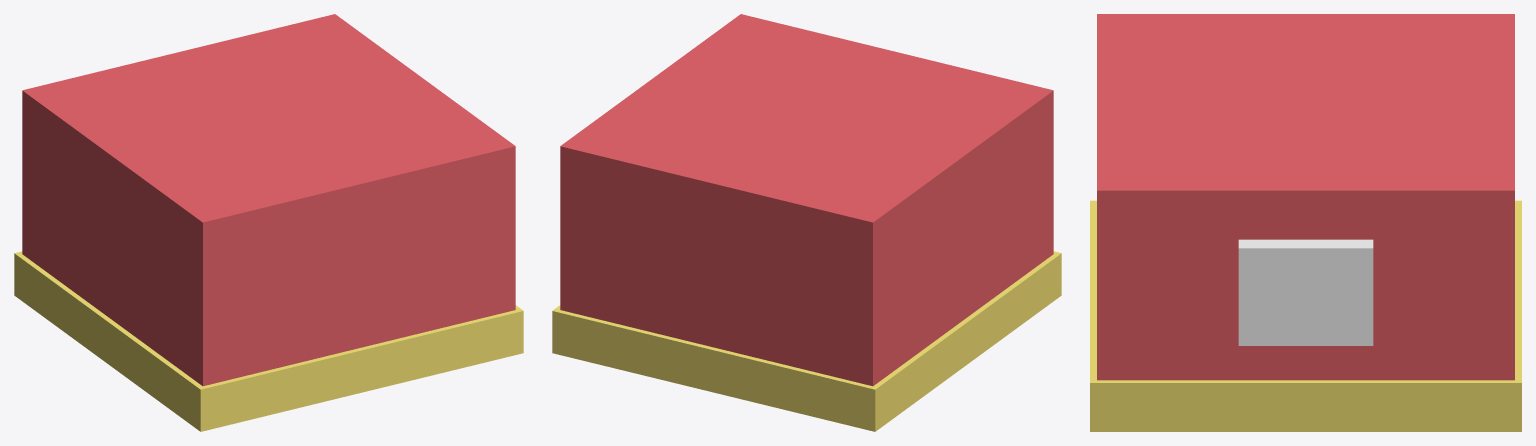
File: junina_manga_sup.glb
3 renders of one model, left to right at view 1: azimuth 30°, elevation 25°; view 2: azimuth 150°, elevation 25°; view 3: azimuth 270°, elevation 25°, orthographic. The views are drawn at different scales.
Visible parts, largest first — view 1: junina_manga_sup; view 2: junina_manga_sup; view 3: junina_manga_sup.
Part boxes in pixels (box(x1,y1,x2,y2)): junina_manga_sup: box(14, 14, 523, 431); junina_manga_sup: box(552, 14, 1061, 431); junina_manga_sup: box(1090, 14, 1521, 431).
Bounding box in the file's own units: 0.33 × 0.195 × 0.32.
